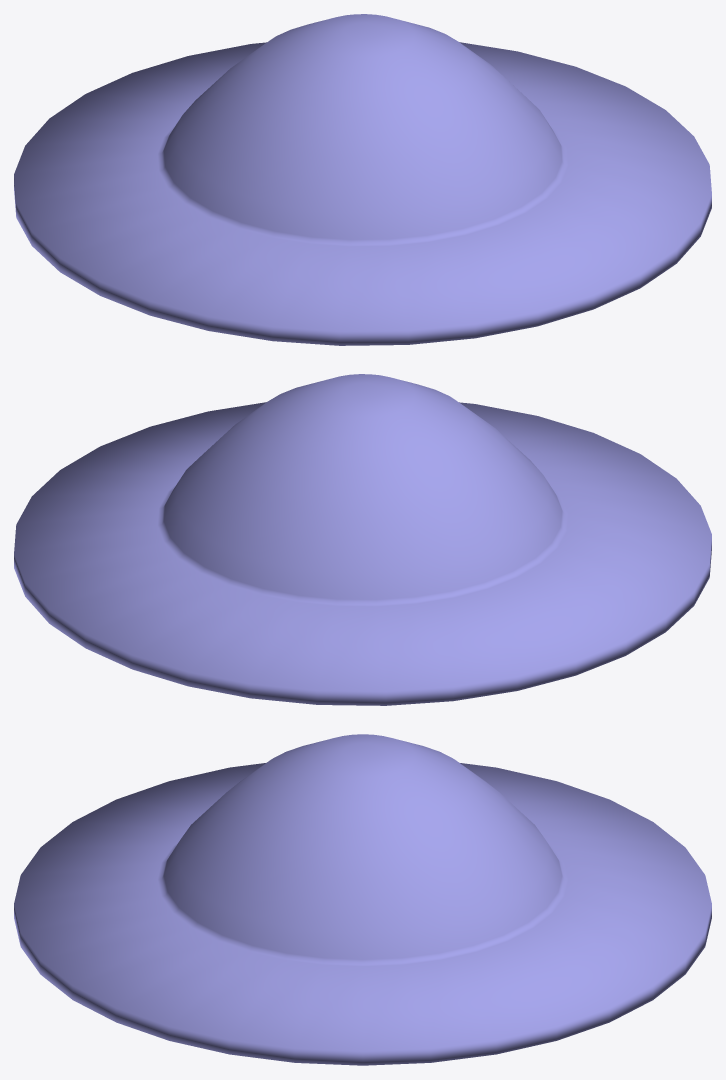
Rendered from UFO.fbx.
3 renders of one model, top to bottom at view 1: azimuth 30°, elevation 25°; view 2: azimuth 150°, elevation 25°; view 3: azimuth 270°, elevation 25°, orthographic.
Parts seen in each view (by area): view 1: Circle; view 2: Circle; view 3: Circle.
Boxes of the visible parts, x1,y1,x2,y2 form: Circle: (14,14,711,345); Circle: (14,374,711,705); Circle: (14,734,711,1065).
Bounding box in the file's own units: 347 × 125 × 347.
